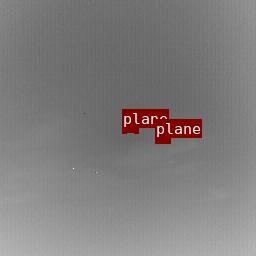plane: (155, 138, 170, 143), (122, 128, 138, 132)
